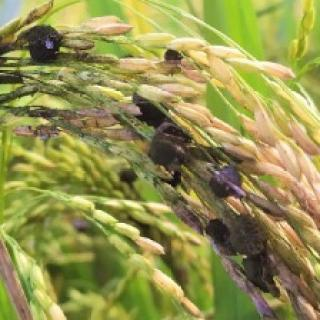Gosong-Palsu: (204, 215, 285, 299), (144, 124, 192, 174), (16, 20, 63, 65), (130, 87, 176, 121), (208, 161, 244, 204)
